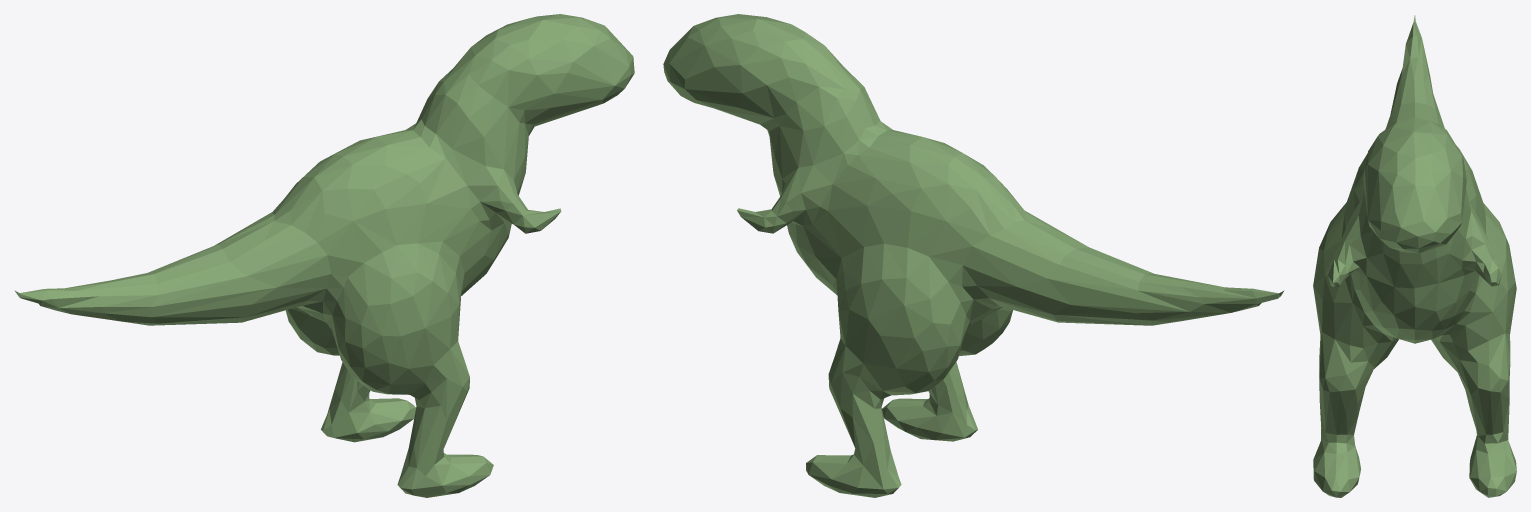
Rendered from NEW_RECOVERY_010_LOD2.glb.
3 views of the same model, side by side, from view 1: azimuth 30°, elevation 25°; view 2: azimuth 150°, elevation 25°; view 3: azimuth 270°, elevation 25° (orthographic). The views are drawn at different scales.
Visible parts, largest first — view 1: Generalized dinosaur solid; view 2: Generalized dinosaur solid; view 3: Generalized dinosaur solid.
Part boxes in pixels (x1,y1,x2,y2): Generalized dinosaur solid: (14, 14, 634, 497); Generalized dinosaur solid: (663, 14, 1284, 497); Generalized dinosaur solid: (1313, 15, 1516, 497).
Bounding box in the file's own units: 4.33 × 2.77 × 1.21.
